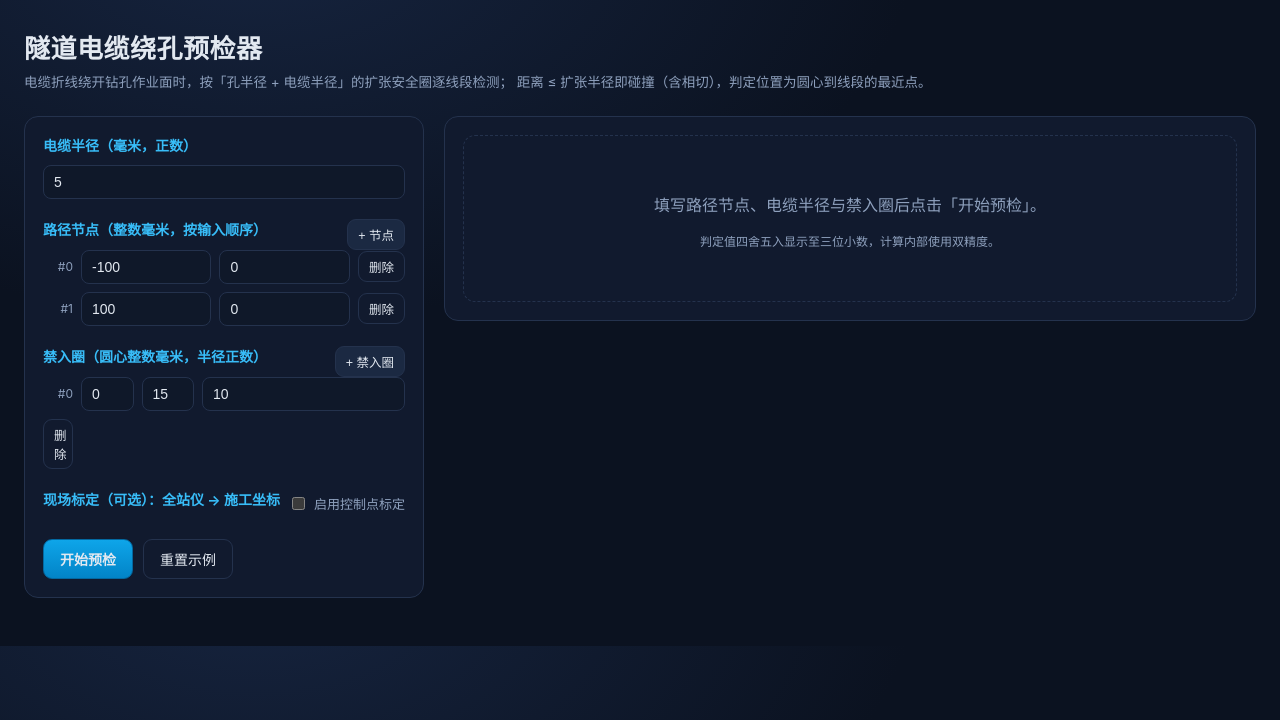
Test case: App collision details › 详情突出接口首个碰撞，其余列表不重复该碰撞
Step 1. Click the button with test id "submit" → (88, 559), box 43,539 -> 133,579
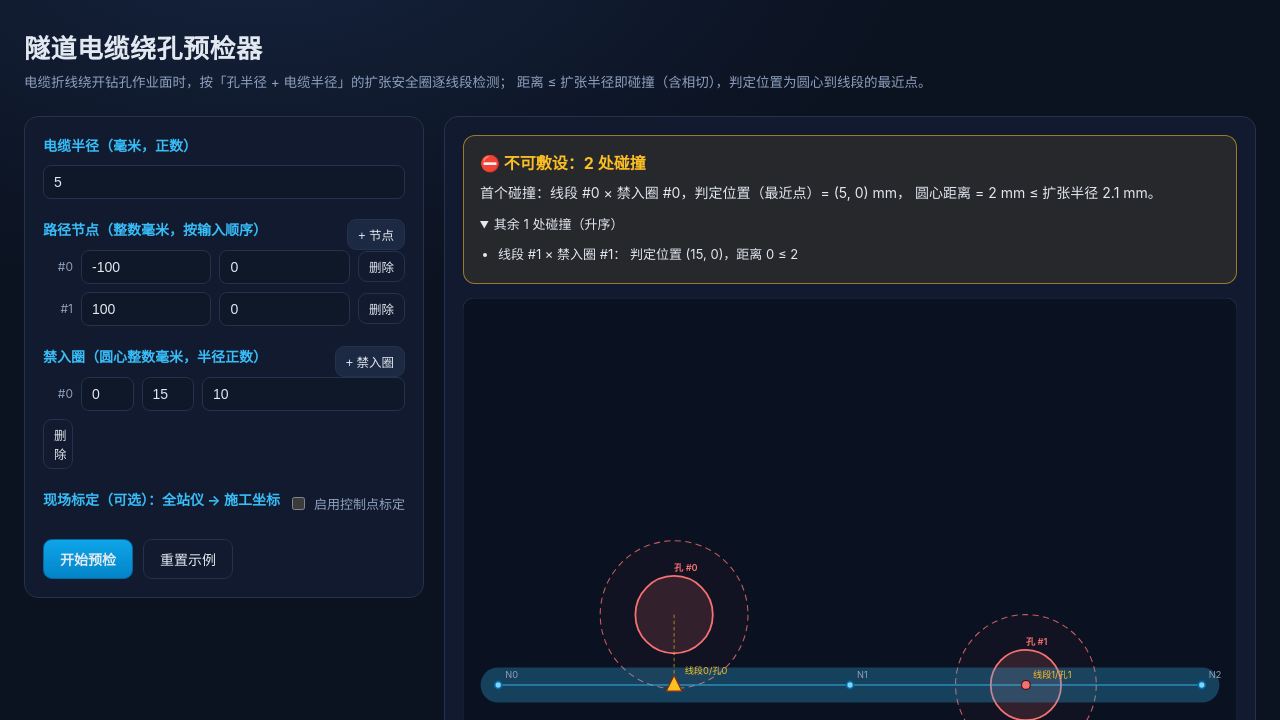
Now the element with test id "banner-collision" is shown, box 463,135 -> 1237,284
Now the text with test id "first-collision-detail" shows "线段 #0", box 480,181 -> 1220,205
Now the text with test id "first-collision-detail" shows "禁入圈 #0", box 480,181 -> 1220,205
